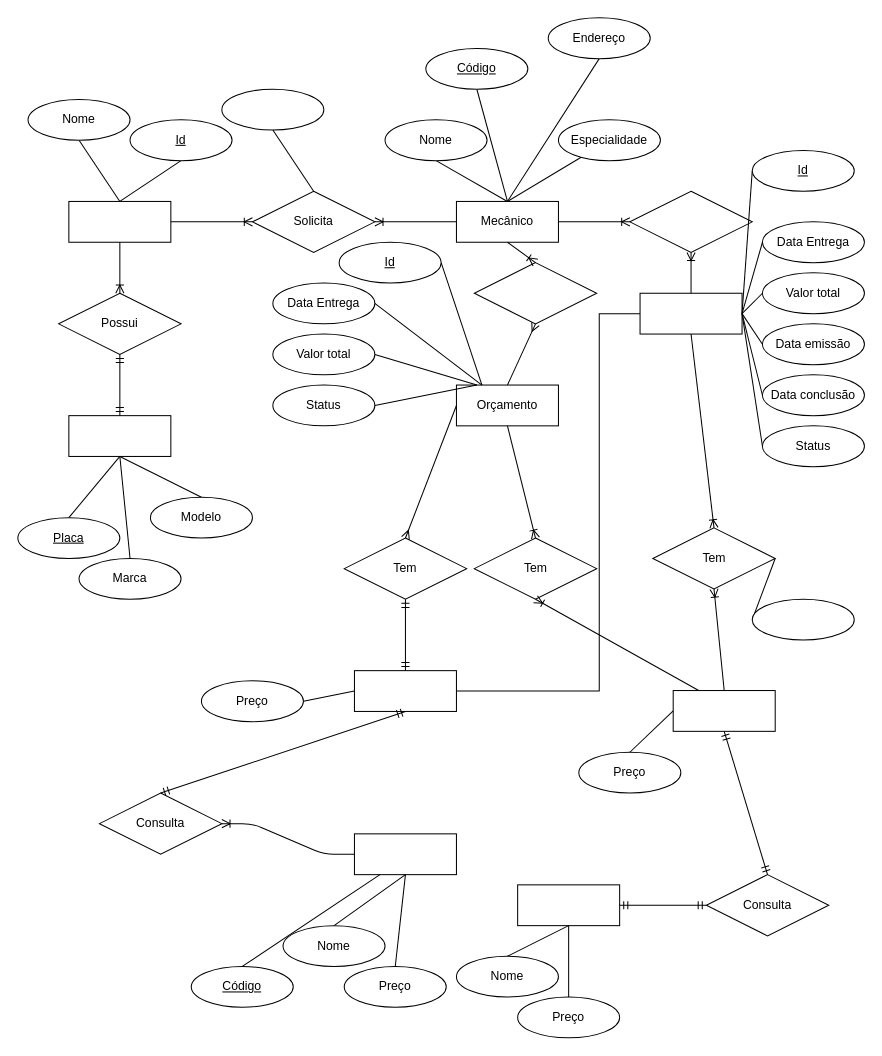
Some shapes in this 882 by 1056 pixel diagram are drawn without their labels. Here are the shapes that lost their labels. From the top down, the centre of each, then its label:
At (x=272, y=109): "Data entrada".
At (x=119, y=221): "Cliente".
At (x=690, y=221): "Preenche".
At (x=535, y=293): "Avalia".
At (x=690, y=313): "Ordem serviço".
At (x=119, y=435): "Veículo".
At (x=802, y=619): "Status execução".
At (x=404, y=690): "Item peça".
At (x=723, y=710): "Serviço".
At (x=404, y=854): "Peça".
At (x=568, y=905): "Mão de obra - refererência".
